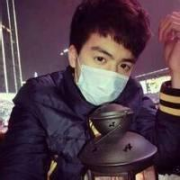yes_mask: (65, 1, 149, 108)
